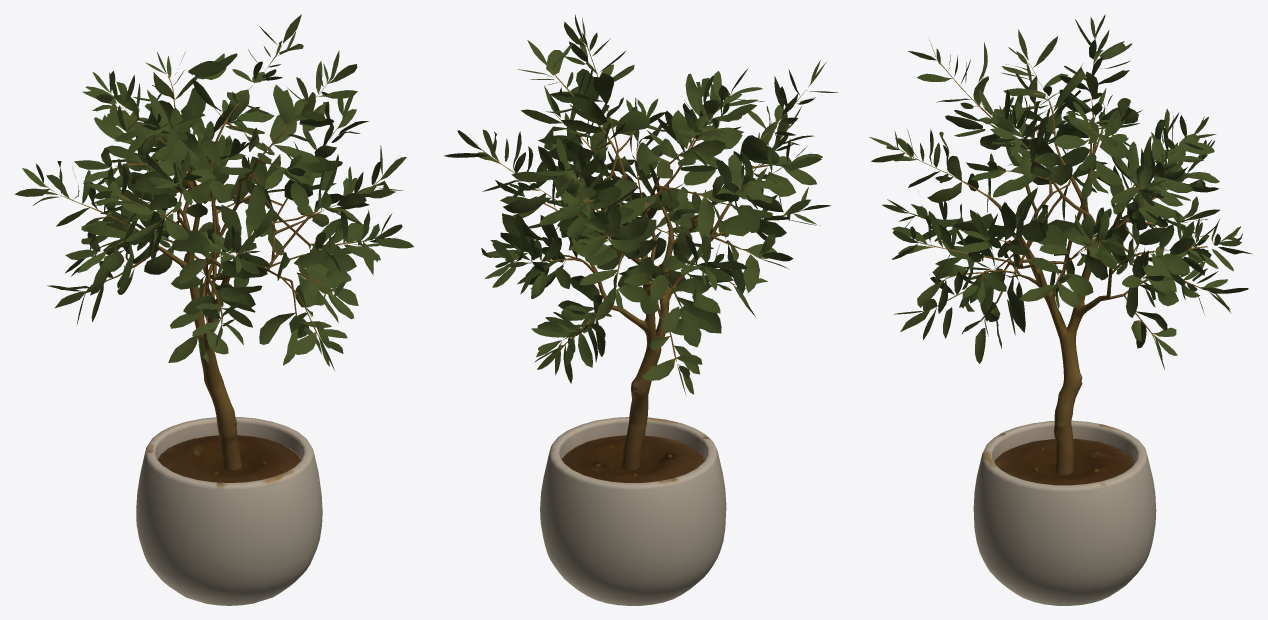
Rendered from olive-planter.glb.
The picture shows the model from 3 angles, left to right: view 1: azimuth 30°, elevation 25°; view 2: azimuth 150°, elevation 25°; view 3: azimuth 270°, elevation 25°; orthographic projection. The views are drawn at different scales.
Visible parts, largest first — view 1: tripo_node_451d680f-dcaa-41dc-a338-4dfe28702dcc; view 2: tripo_node_451d680f-dcaa-41dc-a338-4dfe28702dcc; view 3: tripo_node_451d680f-dcaa-41dc-a338-4dfe28702dcc.
Part boxes in pixels (bbox=[...]): tripo_node_451d680f-dcaa-41dc-a338-4dfe28702dcc: bbox=[14, 14, 413, 605]; tripo_node_451d680f-dcaa-41dc-a338-4dfe28702dcc: bbox=[444, 14, 838, 605]; tripo_node_451d680f-dcaa-41dc-a338-4dfe28702dcc: bbox=[869, 14, 1252, 605].
Bounding box in the file's own units: 0.6323 × 0.9995 × 0.6646.
Materials: 1 (1 with a texture image).
